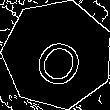O_NE: (26, 22, 89, 87)
